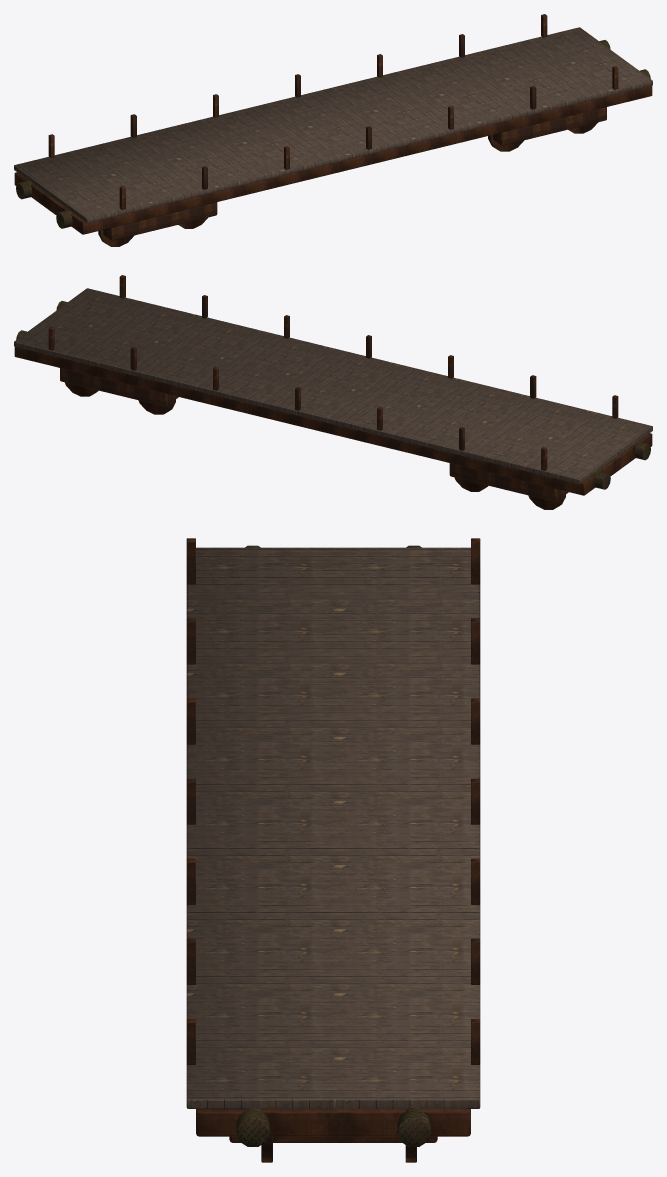
The model's file is veh_wagon_flat.gltf.
3 renders of one model, top to bottom at view 1: azimuth 30°, elevation 25°; view 2: azimuth 150°, elevation 25°; view 3: azimuth 270°, elevation 25°, orthographic. The views are drawn at different scales.
Visible parts, largest first — view 1: box.003, box.002, box, box.001; view 2: box.003, box.002, box, box.001; view 3: box.003, box.002, cyl.010, cyl.011, box.001.
Part boxes in pixels (bbox=[...]): box.003: bbox=[14, 27, 652, 223]; box.002: bbox=[14, 85, 652, 234]; box: bbox=[103, 202, 217, 240]; box.001: bbox=[493, 107, 606, 145]; box.003: bbox=[14, 288, 652, 484]; box.002: bbox=[14, 346, 652, 495]; box: bbox=[449, 463, 568, 501]; box.001: bbox=[60, 368, 178, 406]; box.003: bbox=[186, 547, 480, 1108]; box.002: bbox=[196, 1109, 470, 1136]; cyl.010: bbox=[236, 1108, 269, 1146]; cyl.011: bbox=[397, 1108, 430, 1146]; box.001: bbox=[229, 1136, 437, 1142].
Bounding box in the file's own units: 14.3 × 1.77 × 3.1.
Materials: 3 (3 with a texture image).
